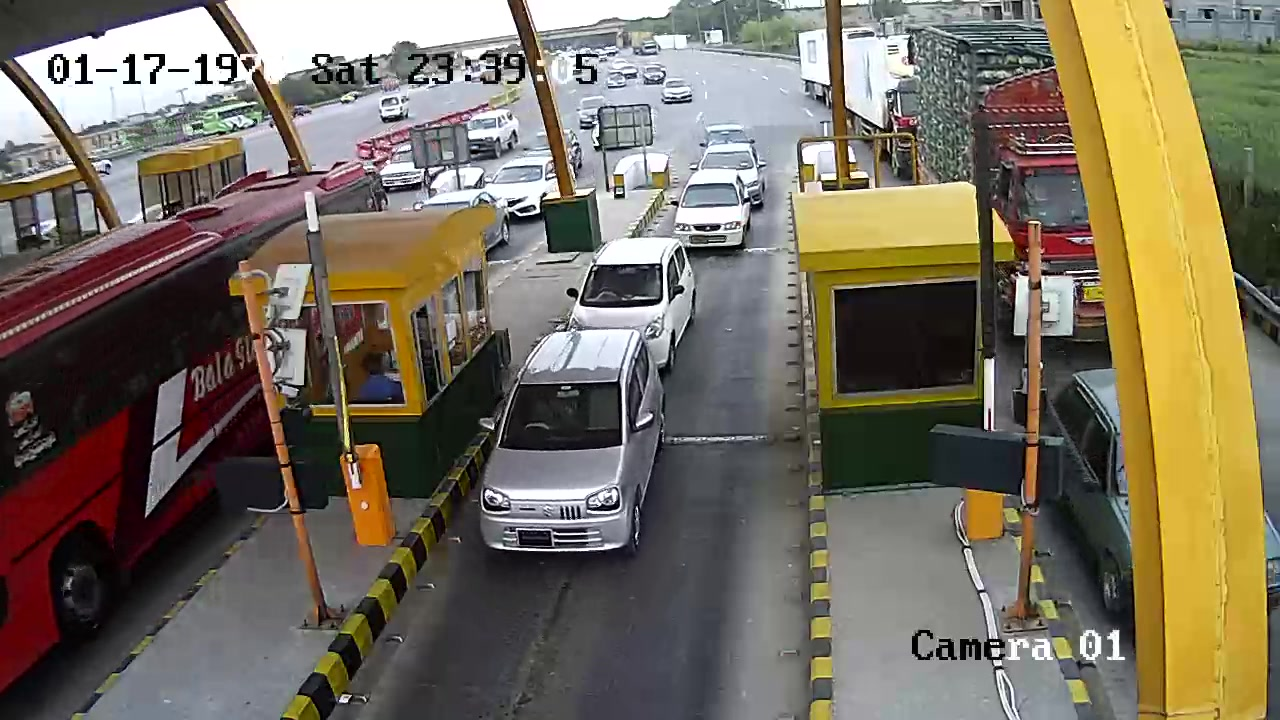F1: (474, 317, 691, 570)
